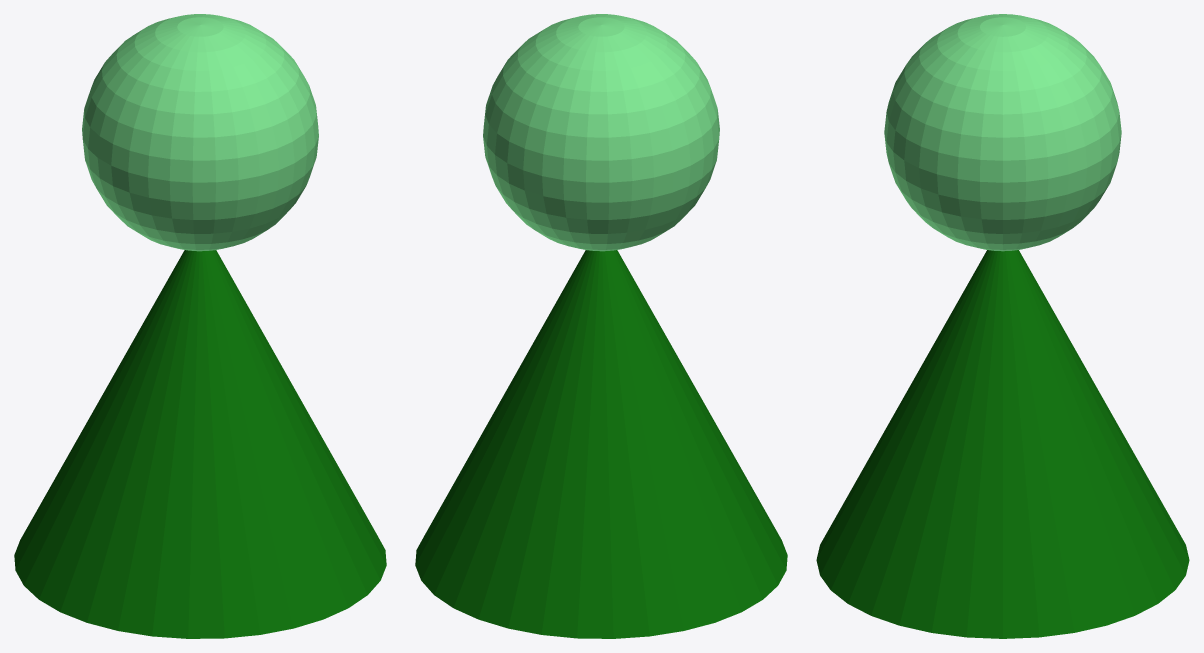
Rendered from Agent3.fbx.
3 renders of one model, left to right at view 1: azimuth 30°, elevation 25°; view 2: azimuth 150°, elevation 25°; view 3: azimuth 270°, elevation 25°, orthographic.
Visible parts, largest first — view 1: Cone, Sphere; view 2: Cone, Sphere; view 3: Cone, Sphere.
Part boxes in pixels (<box>): Cone: <box>14,250,386,638</box>; Sphere: <box>82,14,318,251</box>; Cone: <box>415,250,787,638</box>; Sphere: <box>483,14,719,251</box>; Cone: <box>816,250,1189,638</box>; Sphere: <box>884,14,1121,251</box>.
Bounding box in the file's own units: 314 × 497 × 314.
